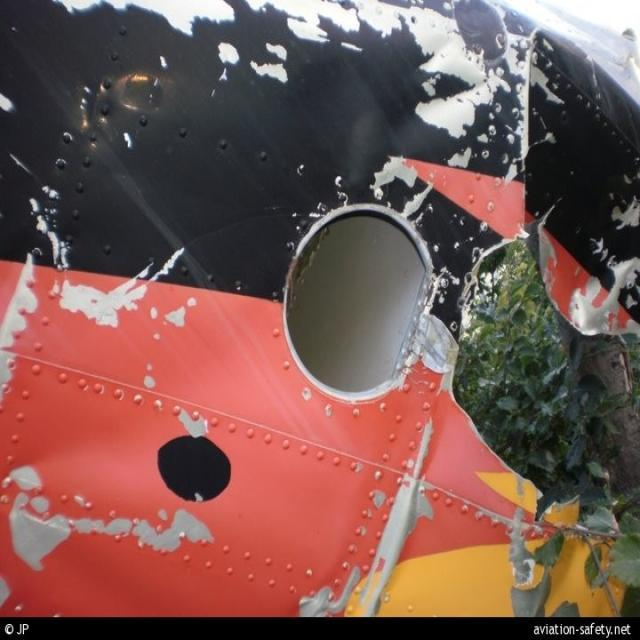dent: (298, 59, 376, 174), (388, 96, 422, 142)
